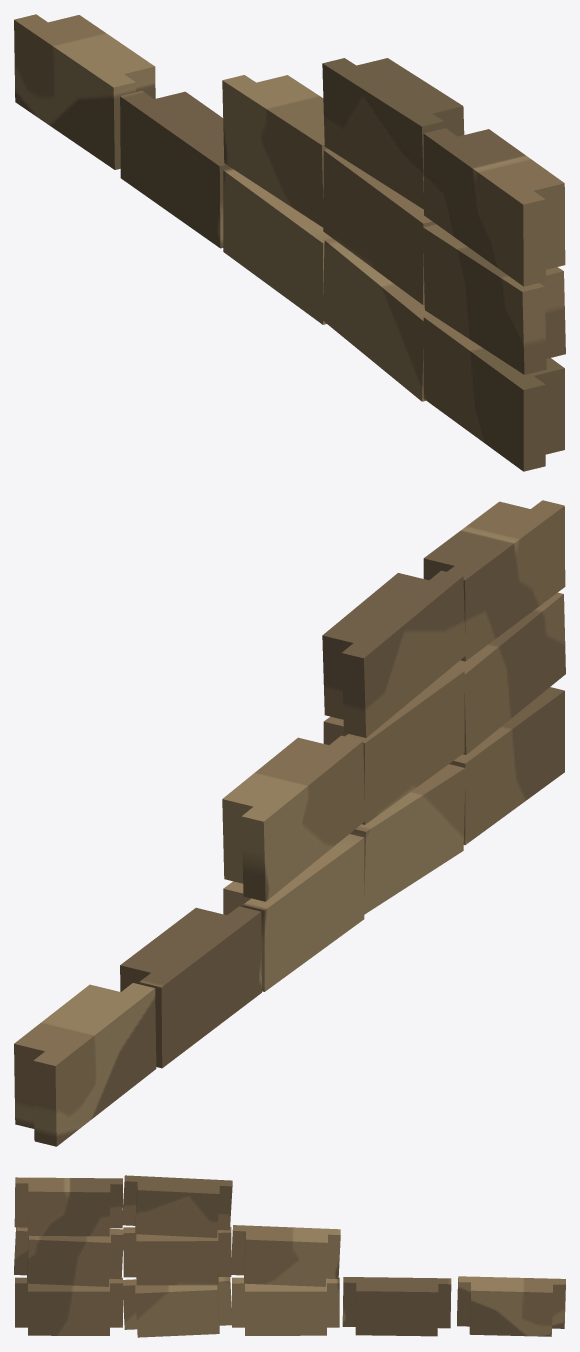
The model's file is SM_Veh_Attach_Tank_Armour_11.fbx.
The picture shows the model from 3 angles, top to bottom: view 1: azimuth 30°, elevation 25°; view 2: azimuth 150°, elevation 25°; view 3: azimuth 270°, elevation 25°; orthographic projection. The views are drawn at different scales.
Parts seen in each view (by area): view 1: SM_Veh_Attach_Tank_Armour_11; view 2: SM_Veh_Attach_Tank_Armour_11; view 3: SM_Veh_Attach_Tank_Armour_11.
Boxes of the visible parts, left/top/right/bottom form: SM_Veh_Attach_Tank_Armour_11: left=14, top=14, right=565, bottom=471; SM_Veh_Attach_Tank_Armour_11: left=14, top=500, right=565, bottom=1146; SM_Veh_Attach_Tank_Armour_11: left=14, top=1175, right=565, bottom=1337.
Bounding box in the file's own units: 11.1 × 54.59 × 184.
